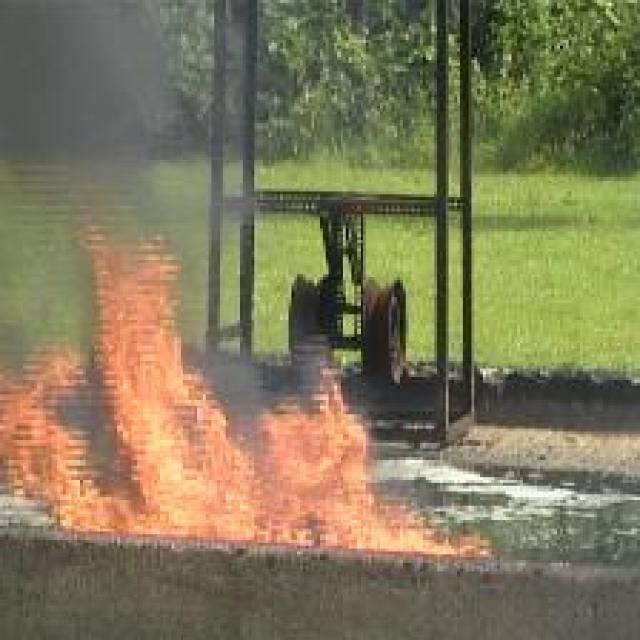Fire: (0, 208, 494, 557)
